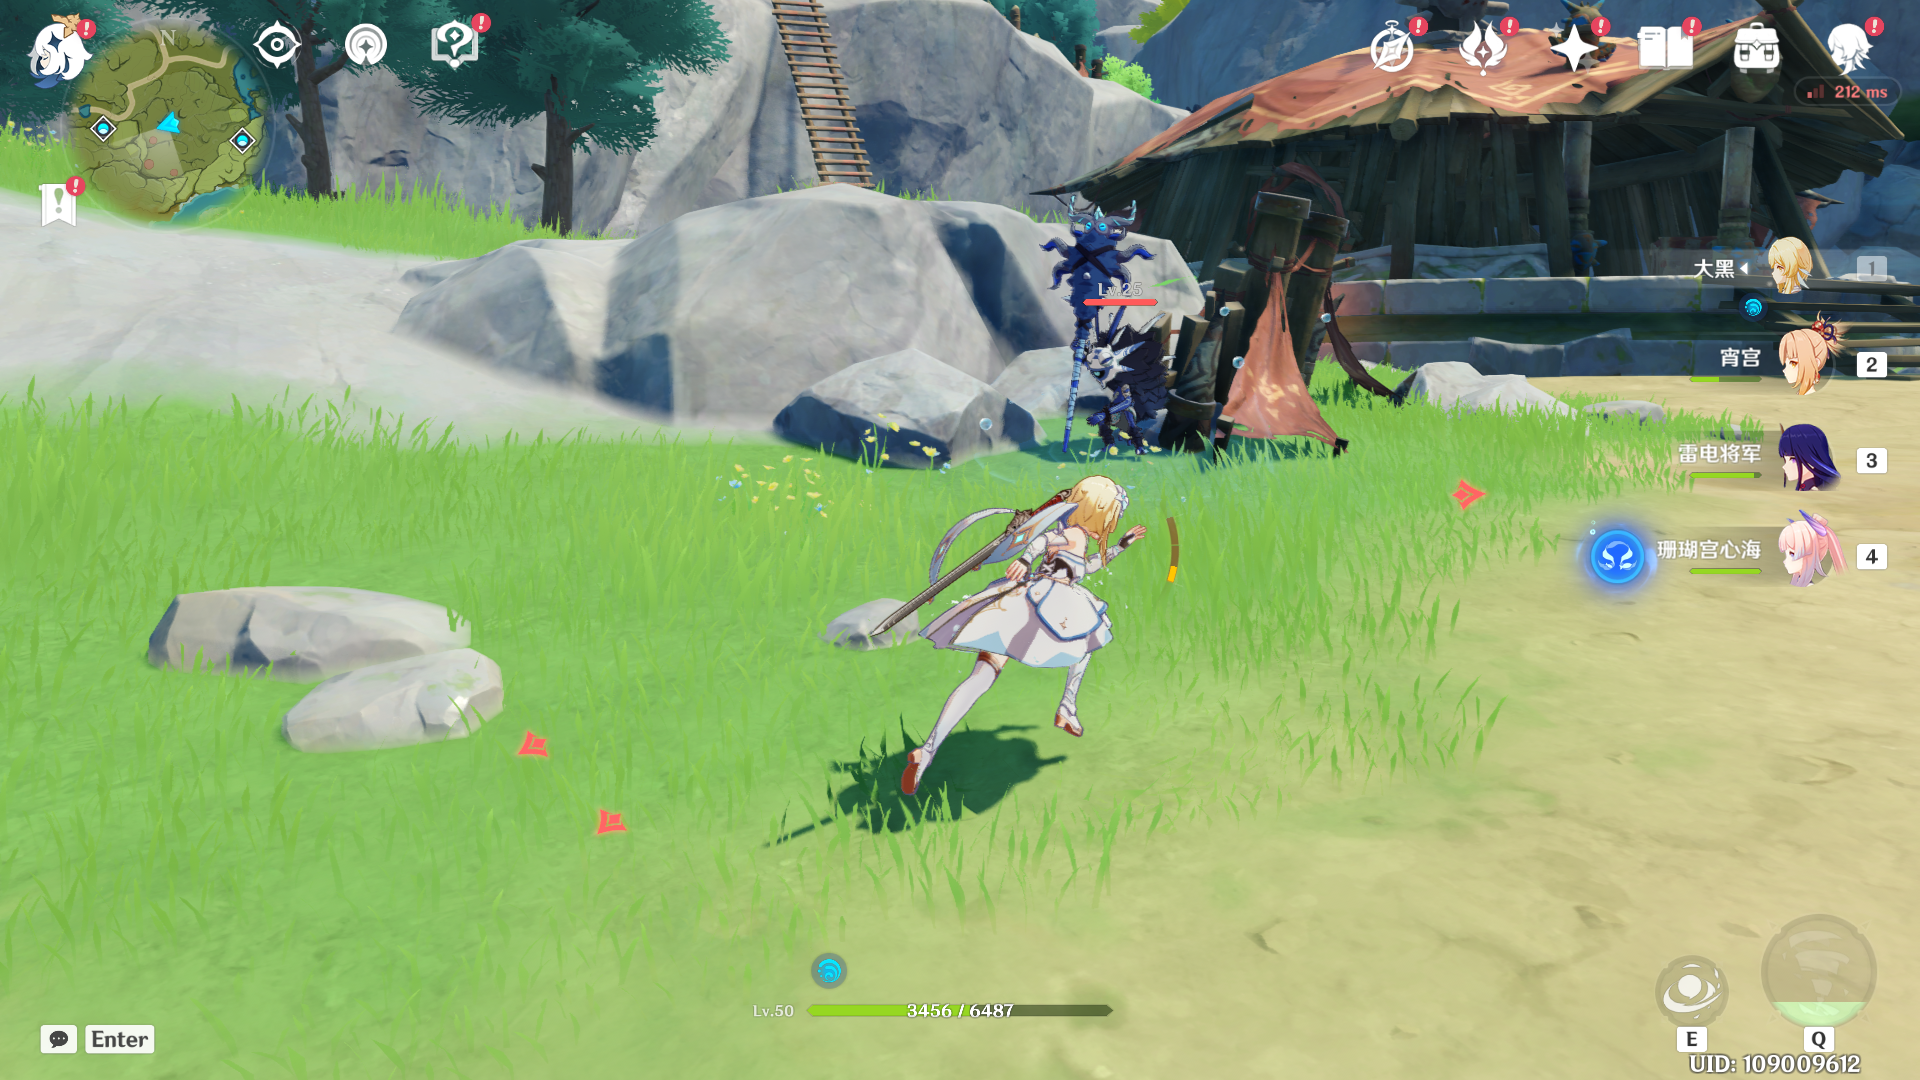character: (823, 448, 1203, 798)
hili: (1040, 191, 1203, 485)
